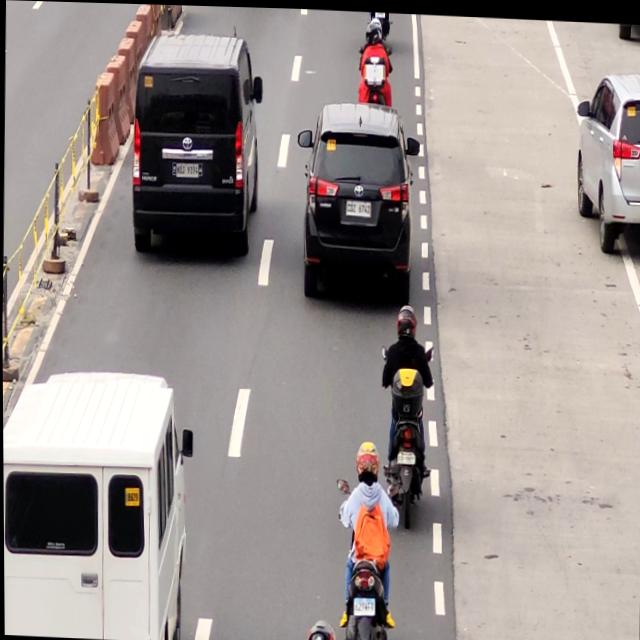Car: (2, 369, 183, 640), (126, 33, 262, 262), (302, 101, 412, 300), (572, 75, 640, 246)
License-Plate: (350, 593, 375, 616), (343, 197, 371, 217), (174, 159, 200, 179), (395, 447, 416, 464)
Motorcycle: (378, 300, 427, 523), (340, 440, 393, 640), (358, 9, 392, 105)
